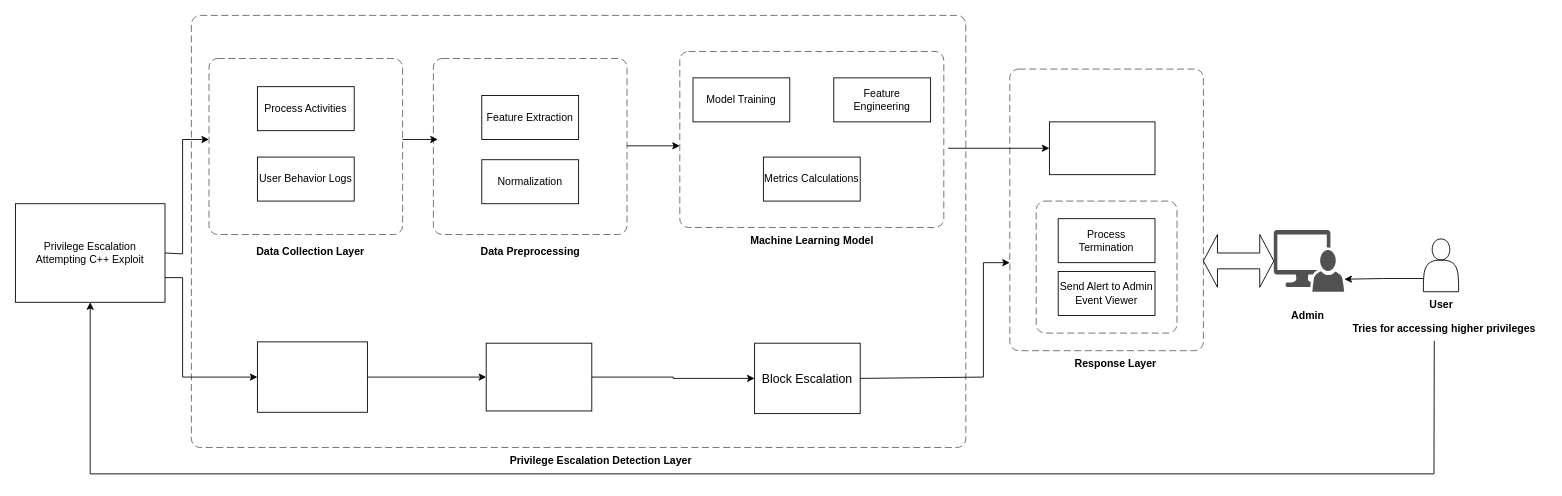
Some shapes in this 1562 by 496 pixel diagram are drawn without their labels. Each missing label, with the box of its shape:
Acces Control Check: (485, 342, 592, 411)
Model Prediction: (1049, 121, 1155, 175)
PrivilegeBlocker Service: (257, 341, 367, 412)
